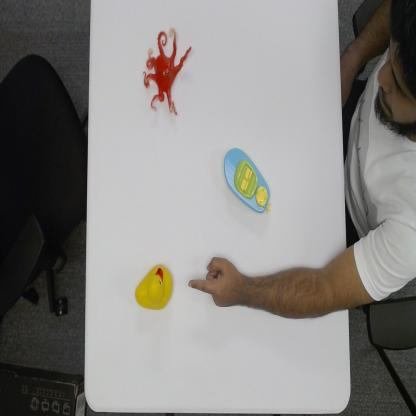Arm: (252, 248, 374, 325)
Boat: (222, 146, 273, 216)
Duck: (134, 260, 174, 311)
Hand: (188, 255, 247, 310)
Octopus: (142, 25, 192, 118)
